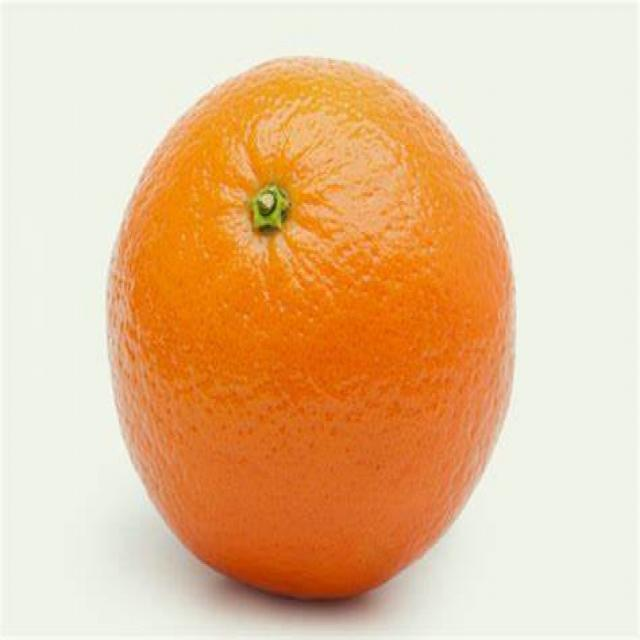Orange: (106, 55, 516, 607)
